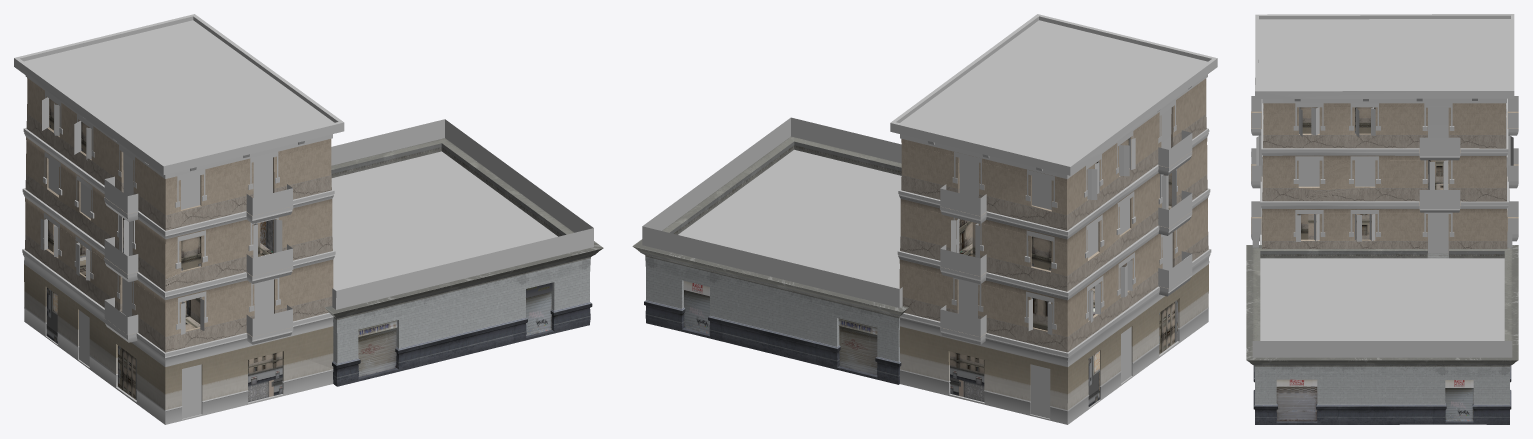
The model's file is building3_lod1.FBX.
The picture shows the model from 3 angles, left to right: view 1: azimuth 30°, elevation 25°; view 2: azimuth 150°, elevation 25°; view 3: azimuth 270°, elevation 25°; orthographic projection. The views are drawn at different scales.
Parts seen in each view (by area): view 1: building3b_lod01, building3_lod01, building3b_roof_lod01, building3_roof_lod01, building3_transparent_lod01, building3b_windows_lod01, building3b_interior_lod01; view 2: building3b_lod01, building3_lod01, building3b_roof_lod01, building3_roof_lod01, building3_transparent_lod01, building3b_windows_lod01, building3b_interior_lod01; view 3: building3b_lod01, building3_lod01, building3_roof_lod01, building3b_roof_lod01, building3_transparent_lod01, building3b_windows_lod01, building3b_interior_lod01.
Boxes of the visible parts, x1,y1,x2,y2 form: building3b_lod01: (14, 14, 344, 424); building3_lod01: (324, 138, 603, 386); building3b_roof_lod01: (24, 20, 334, 163); building3_roof_lod01: (331, 151, 557, 290); building3_transparent_lod01: (104, 119, 593, 336); building3b_windows_lod01: (46, 98, 282, 402); building3b_interior_lod01: (53, 218, 273, 330); building3b_lod01: (890, 14, 1217, 424); building3_lod01: (632, 136, 908, 384); building3b_roof_lod01: (900, 20, 1207, 164); building3_roof_lod01: (678, 149, 901, 288); building3_transparent_lod01: (642, 117, 1192, 336); building3b_windows_lod01: (949, 138, 1177, 406); building3b_interior_lod01: (959, 173, 1171, 330); building3b_lod01: (1251, 14, 1518, 253); building3_lod01: (1246, 245, 1518, 424); building3_roof_lod01: (1260, 258, 1504, 340); building3b_roof_lod01: (1258, 19, 1510, 89); building3_transparent_lod01: (1251, 96, 1518, 357); building3b_windows_lod01: (1298, 107, 1375, 239); building3b_interior_lod01: (1308, 160, 1448, 239).
Bounding box in the file's own units: 2612 × 1489 × 1604.
